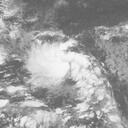cyclone: (24, 30, 99, 95)
